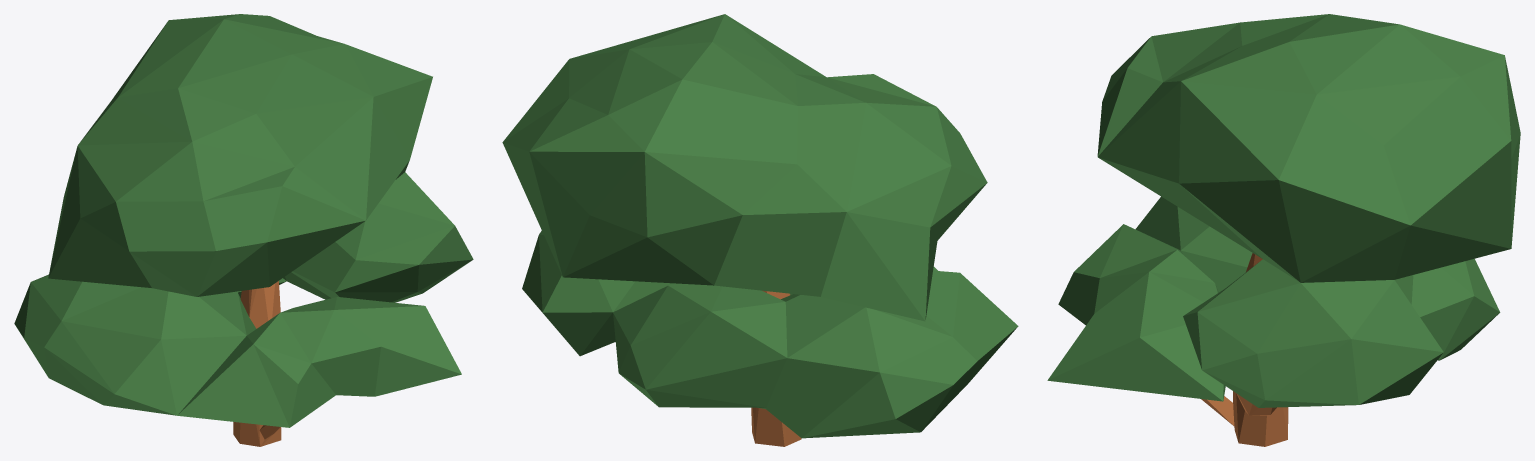
The model's file is bush01.gltf.
3 views of the same model, side by side, from view 1: azimuth 30°, elevation 25°; view 2: azimuth 150°, elevation 25°; view 3: azimuth 270°, elevation 25° (orthographic). The views are drawn at different scales.
Visible parts, largest first — view 1: Cylinder.001; view 2: Cylinder.001; view 3: Cylinder.001.
Boxes of the visible parts, x1,y1,x2,y2 form: Cylinder.001: (14,14,473,446); Cylinder.001: (502,14,1018,446); Cylinder.001: (1047,14,1520,446).
Bounding box in the file's own units: 1.13 × 0.9922 × 0.9994.
Materials: 1 (1 with a texture image).
